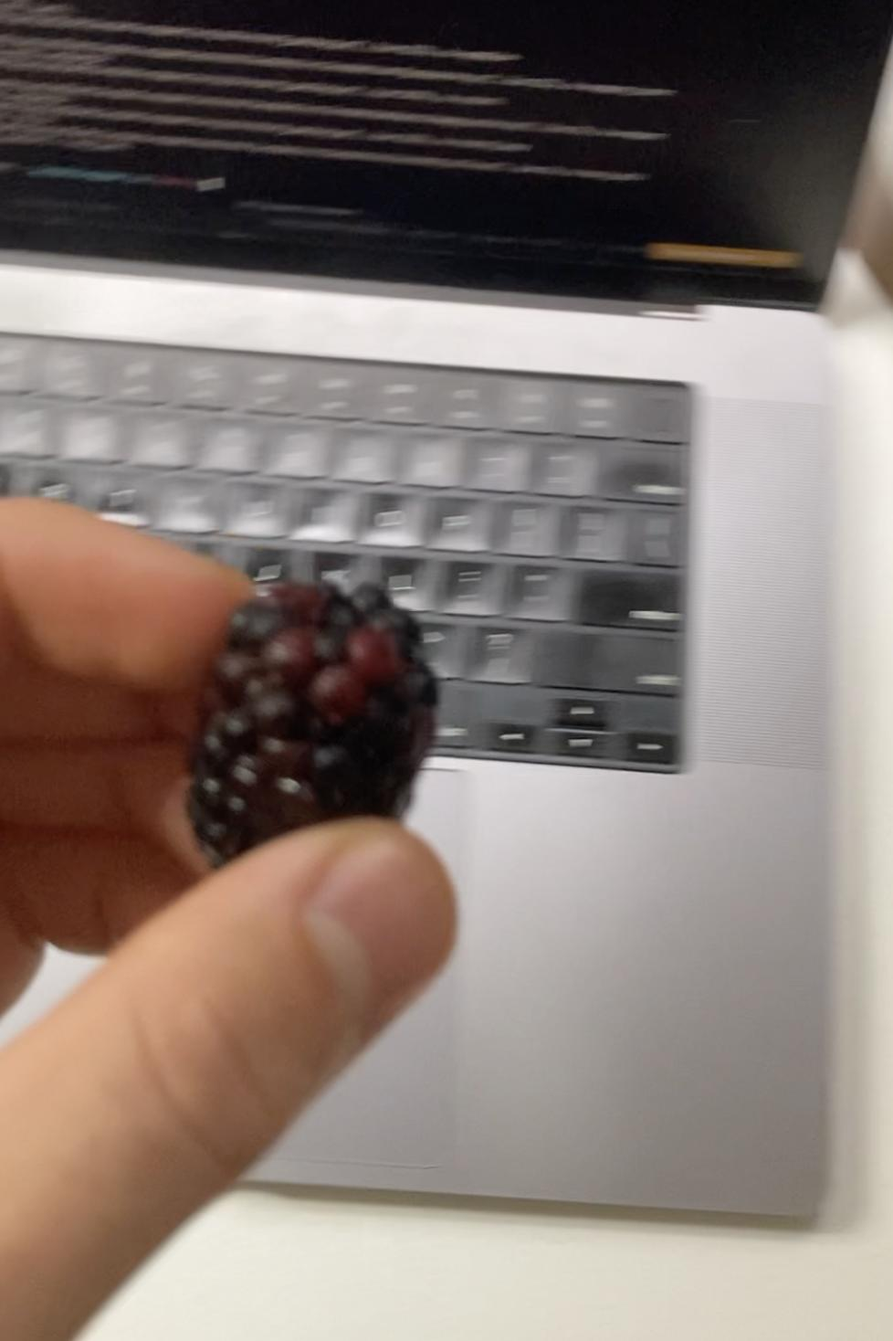berry: (190, 580, 438, 868)
red drouplet: (261, 625, 320, 690), (308, 660, 365, 723), (346, 624, 400, 684)
